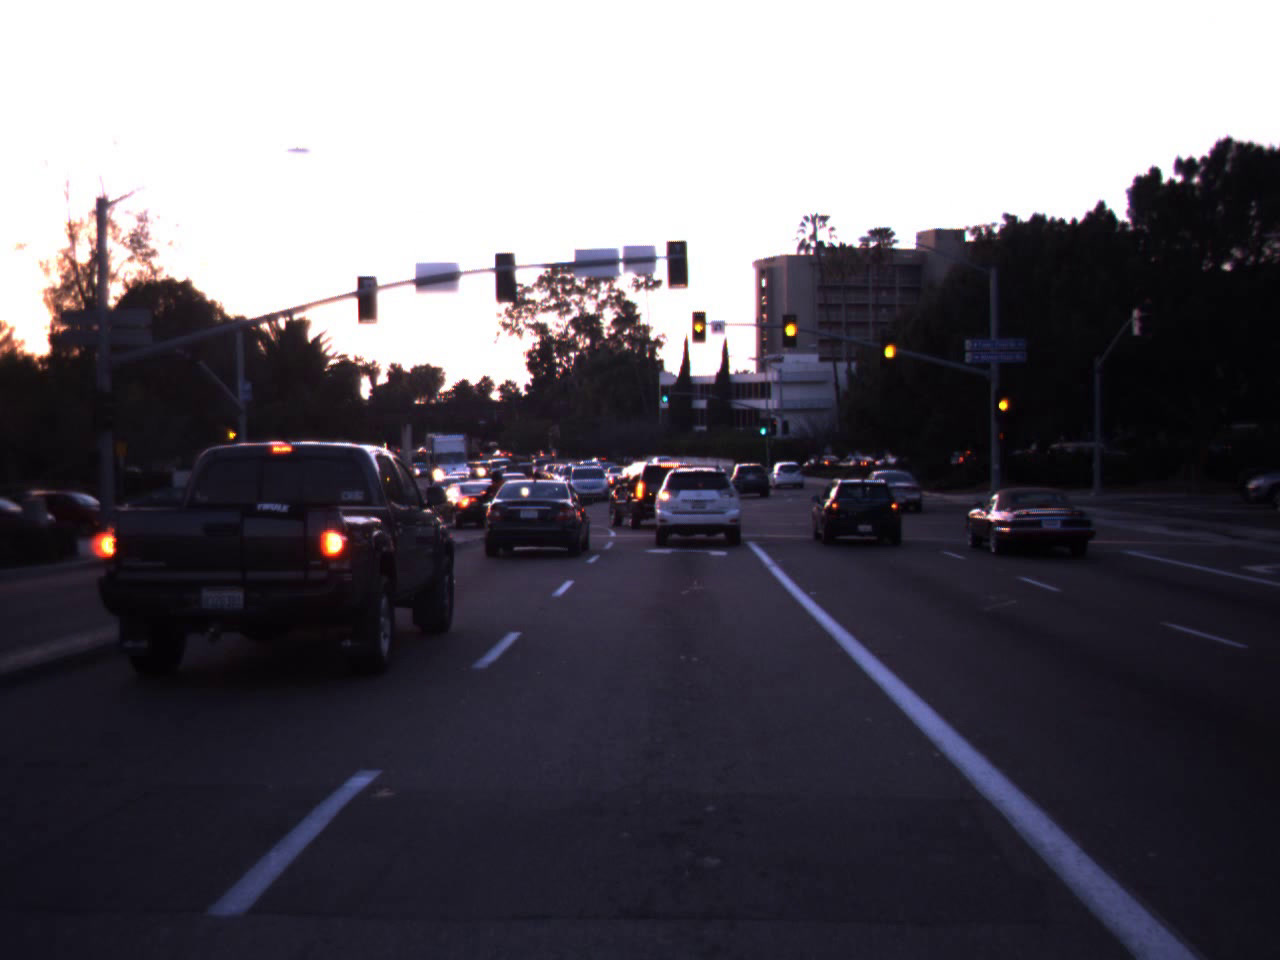go: (757, 411, 769, 436), (659, 383, 671, 403)
warning: (878, 324, 902, 373), (778, 308, 805, 344), (992, 388, 1013, 419), (688, 311, 709, 342)
